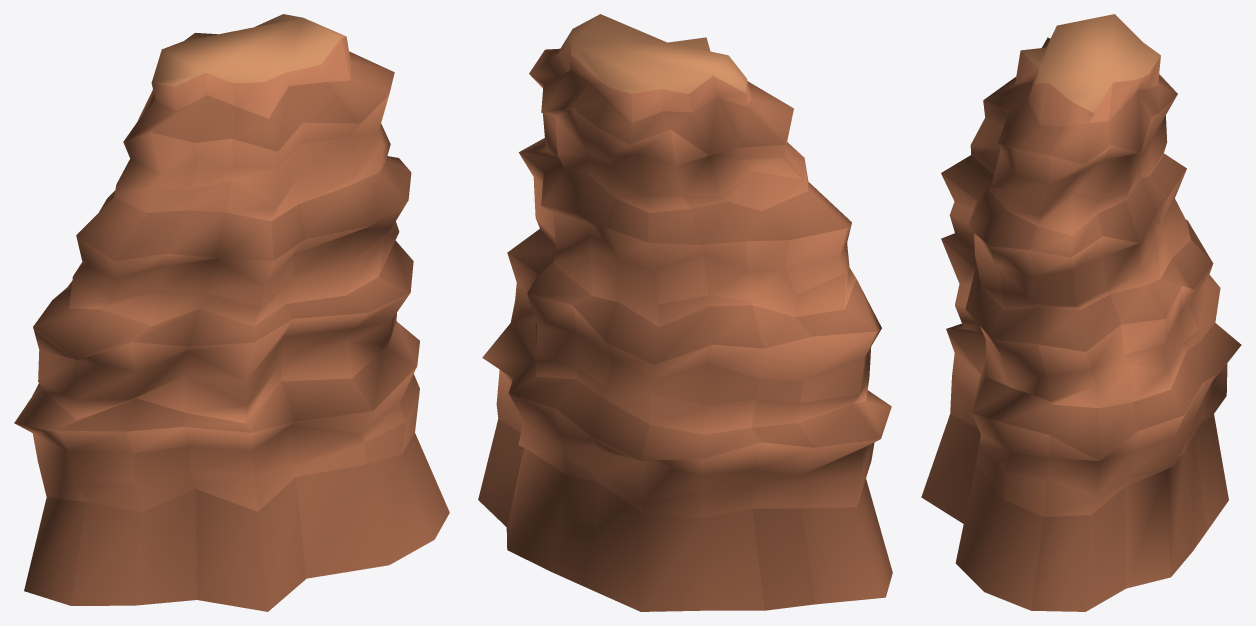
File: roadside-shard.glb
The picture shows the model from 3 angles, left to right: view 1: azimuth 30°, elevation 25°; view 2: azimuth 150°, elevation 25°; view 3: azimuth 270°, elevation 25°; orthographic projection. The views are drawn at different scales.
Visible parts, largest first — view 1: roadside-shard; view 2: roadside-shard; view 3: roadside-shard.
Boxes of the visible parts, x1,y1,x2,y2 form: roadside-shard: (14, 14, 449, 611); roadside-shard: (478, 14, 892, 611); roadside-shard: (921, 14, 1241, 611).
Bounding box in the file's own units: 12.33 × 14.34 × 8.66.
